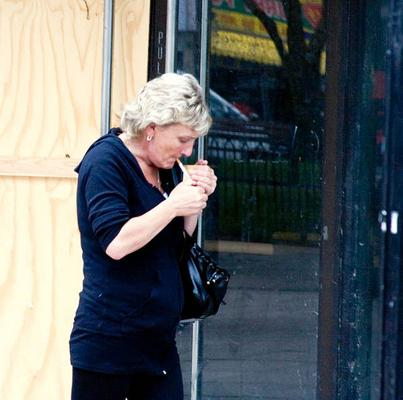person: (66, 71, 218, 400)
